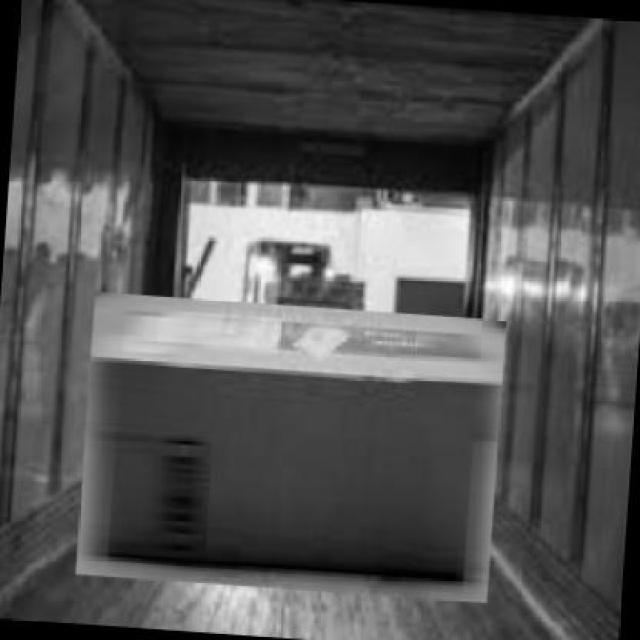box: (68, 288, 514, 609)
